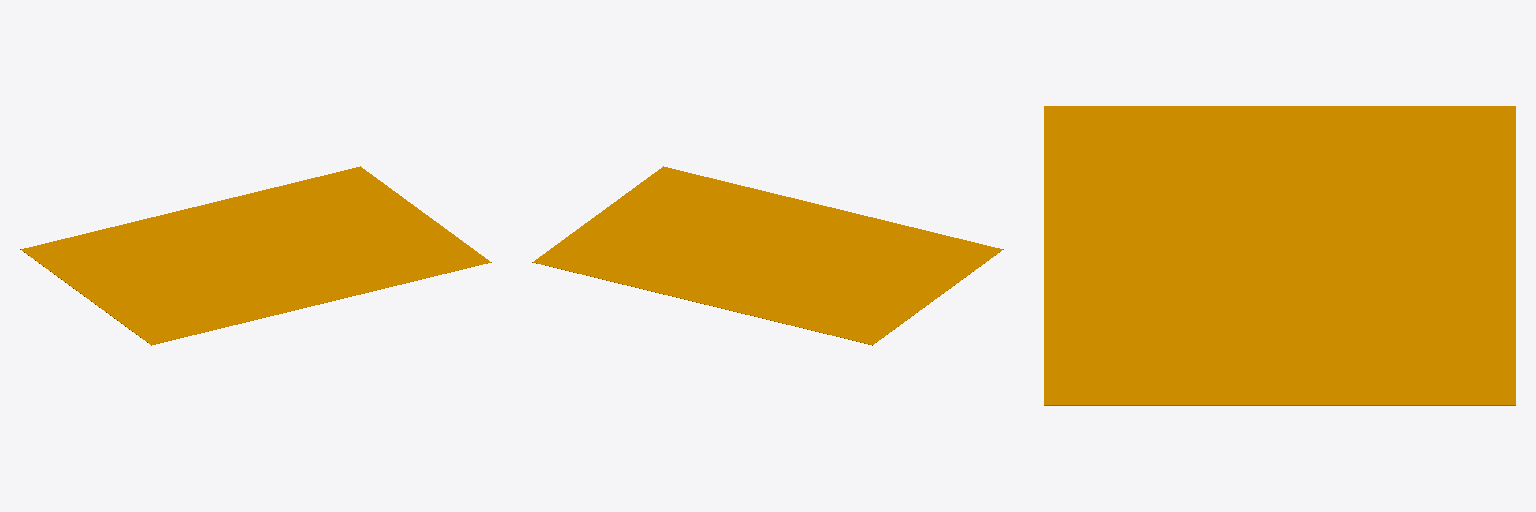
robot.urdf — table:
<?xml version="1.0" ?>
<robot name="table">
  <link name="table">
    <contact>
      <lateral_friction value="0.1"/>
    </contact>
    <inertial>
       <mass value="1000.0"/>
       <inertia ixx="4.508" ixy="0" ixz="0" iyy="8.184" iyz="0" izz="11.026"/>
       <origin rpy="0 -0 0" xyz="0 0 0"/>
    </inertial>
    <visual>
      <origin rpy="0 0 0" xyz="0 0.55 0.0005"/>
      <geometry>
				<box size="1.5 1 0.001"/>
      </geometry>
    </visual>
    <collision>
      <origin rpy="0 0 0" xyz="0 0.55 0.0005"/>
      <geometry>
	 	    <box size="1.5 1 0.001"/>
      </geometry>
    </collision>
  </link>
</robot>

--- Facts derived from the render (not from the file) ---
3 views of the same robot in one strip: view 1: azimuth 30°, elevation 25°; view 2: azimuth 150°, elevation 25°; view 3: azimuth 270°, elevation 25° (orthographic).
Robot: table — 1 links, 0 joints (none); root link table; default pose: every joint at zero.
Visible links, largest first — view 1: table; view 2: table; view 3: table.
Link boxes in pixels (left/top/right/bottom): table: left=20, top=166, right=491, bottom=345; table: left=532, top=166, right=1003, bottom=345; table: left=1044, top=106, right=1515, bottom=405.
Size in the robot's own frame: 1.5 by 1 by 0.001 metres.
Geometry: primitives only (box / cylinder / sphere), no mesh files.
